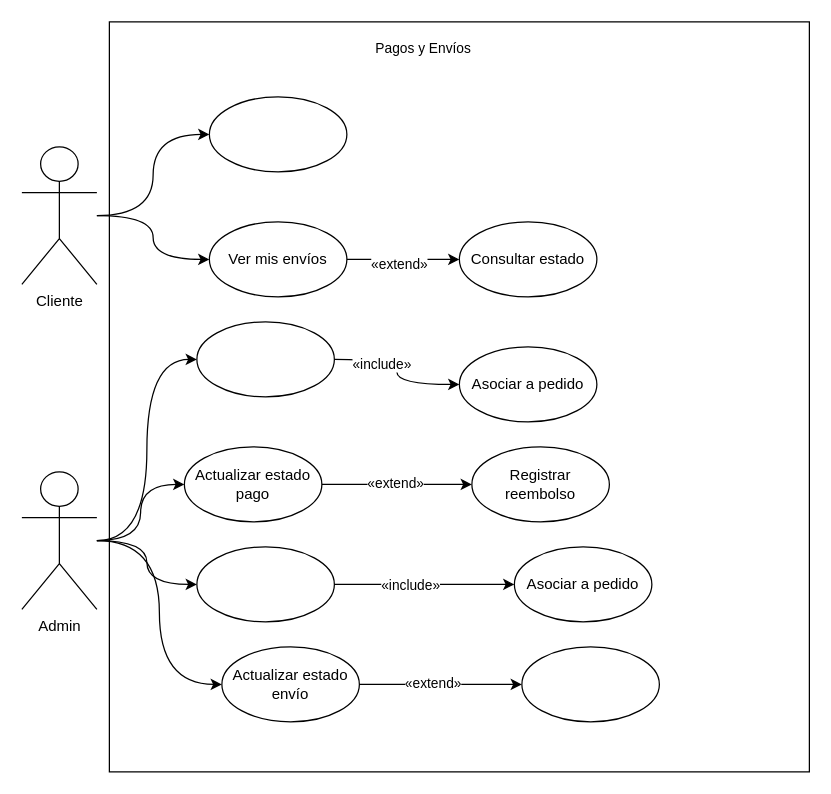
Image size: 831x794. Some labels were removed from this diagram. The centre of each missing label's shape, as x and y in pixels:
Aplicar filtros: pixel 590 684
Registrar envío: pixel 265 584
Registrar pago: pixel 265 359
Ver mis pagos: pixel 277 134
